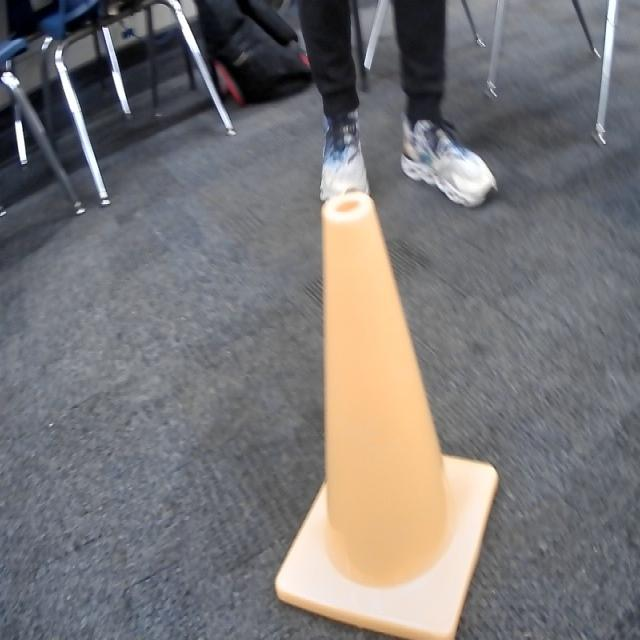cone: (275, 189, 500, 640)
